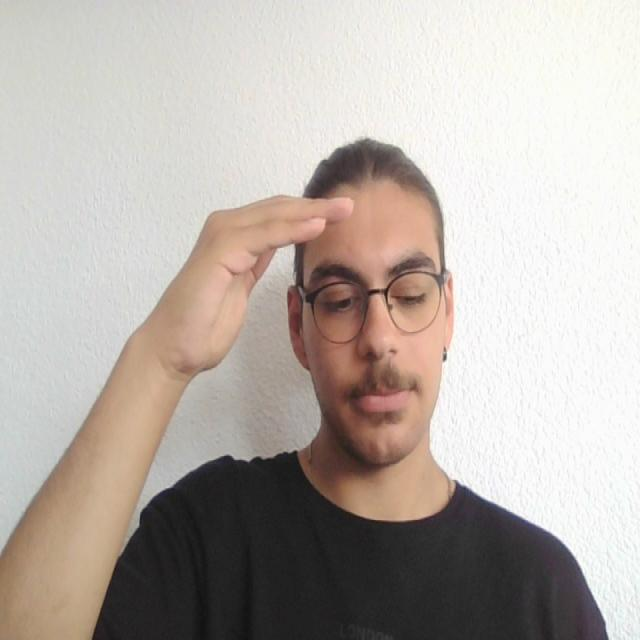Merhaba: (153, 180, 358, 438)
